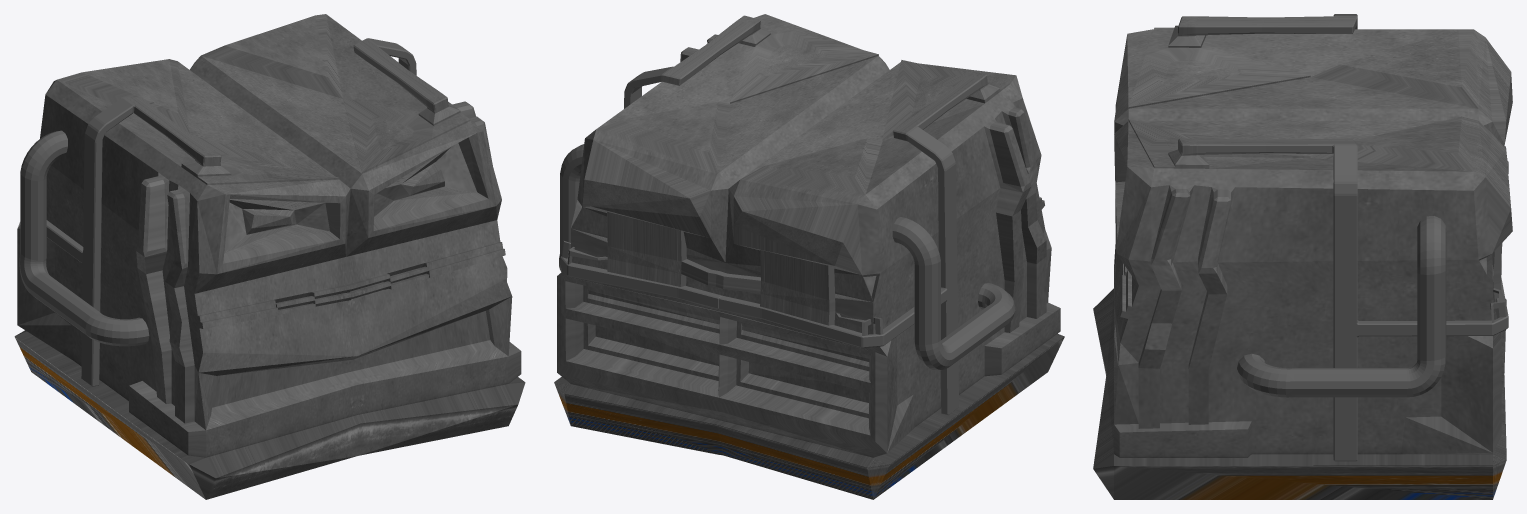
The model's file is drone.obj.
The picture shows the model from 3 angles, left to right: view 1: azimuth 30°, elevation 25°; view 2: azimuth 150°, elevation 25°; view 3: azimuth 270°, elevation 25°; orthographic projection. The views are drawn at different scales.
Parts seen in each view (by area): view 1: Cube; view 2: Cube; view 3: Cube.
Part boxes in pixels (x1,y1,x2,y2): Cube: [14, 14, 525, 499]; Cube: [554, 14, 1064, 499]; Cube: [1093, 14, 1512, 499].
Size of the model in its own units: 2.3 by 1.88 by 1.99.
